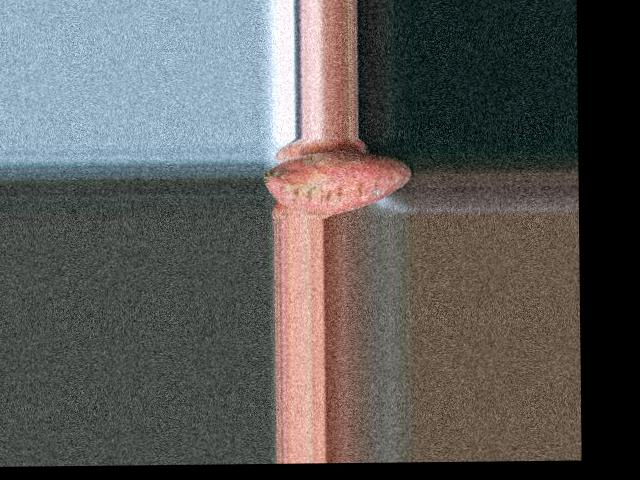sweet_potato: (263, 157, 410, 210)
